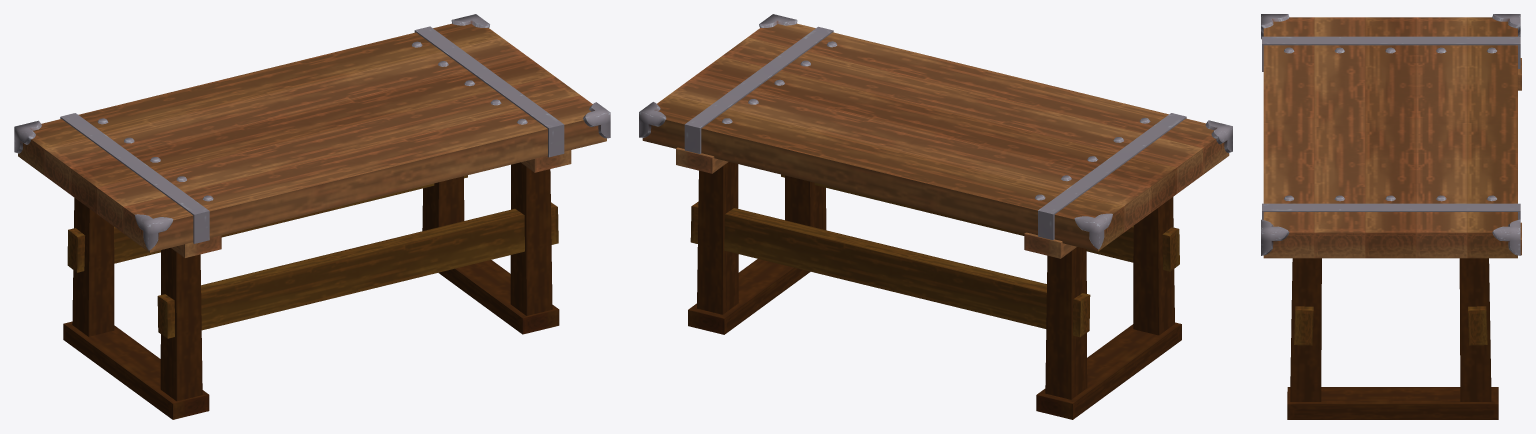
The model's file is workbench.glb.
The picture shows the model from 3 angles, left to right: view 1: azimuth 30°, elevation 25°; view 2: azimuth 150°, elevation 25°; view 3: azimuth 270°, elevation 25°; orthographic projection. The views are drawn at different scales.
Visible parts, largest first — view 1: Workbench; view 2: Workbench; view 3: Workbench.
Part boxes in pixels (box(x1,y1,x2,y2)): Workbench: box(14, 14, 610, 419); Workbench: box(639, 14, 1232, 419); Workbench: box(1261, 14, 1521, 419).
Bounding box in the file's own units: 2.02 × 0.8946 × 1.02.
Materials: 2 (2 with a texture image).
